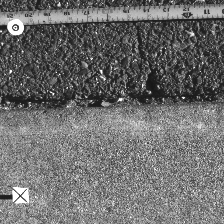circle: (6, 19, 24, 35)
crack: (1, 92, 223, 112)
square: (12, 187, 29, 203)
